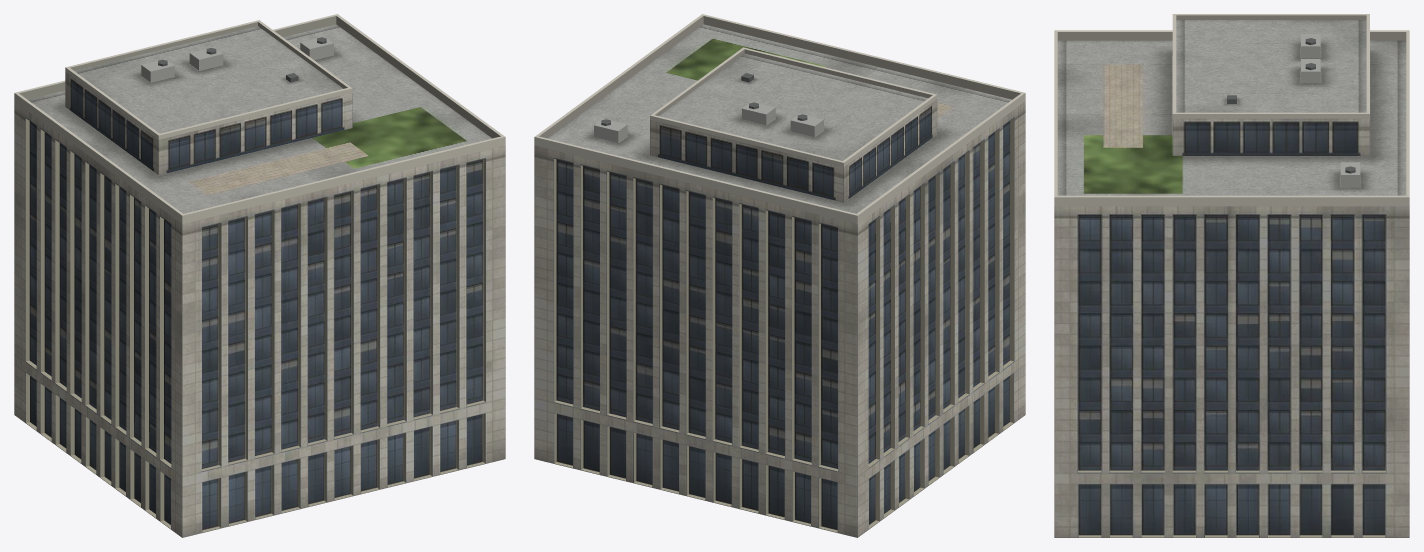
File: dc_office_glass_c.glb
The picture shows the model from 3 angles, left to right: view 1: azimuth 30°, elevation 25°; view 2: azimuth 150°, elevation 25°; view 3: azimuth 270°, elevation 25°; orthographic projection. The views are drawn at different scales.
Parts seen in each view (by area): view 1: dc_office_glass_c; view 2: dc_office_glass_c; view 3: dc_office_glass_c.
Boxes of the visible parts, x1=… form: dc_office_glass_c: x1=14, y1=14, x2=505, y2=537; dc_office_glass_c: x1=534, y1=14, x2=1025, y2=537; dc_office_glass_c: x1=1054, y1=14, x2=1409, y2=537.
Bounding box in the file's own units: 40 × 42.85 × 36.
1 material, 1 textured.
